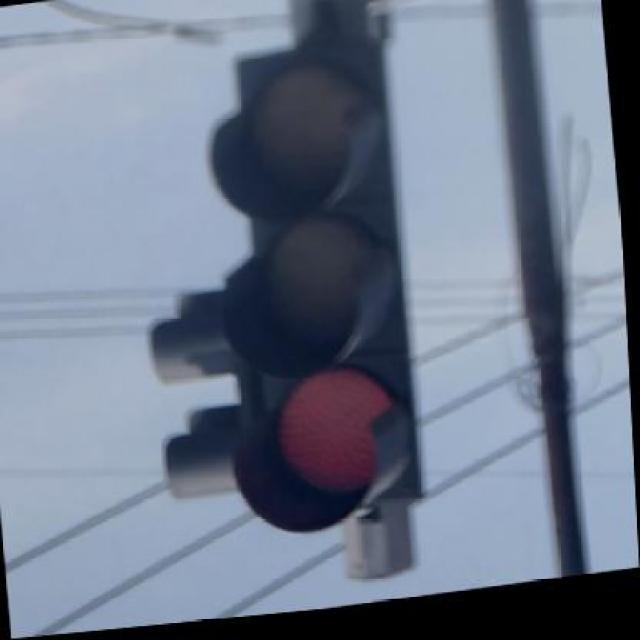red_light: (150, 0, 419, 570)
